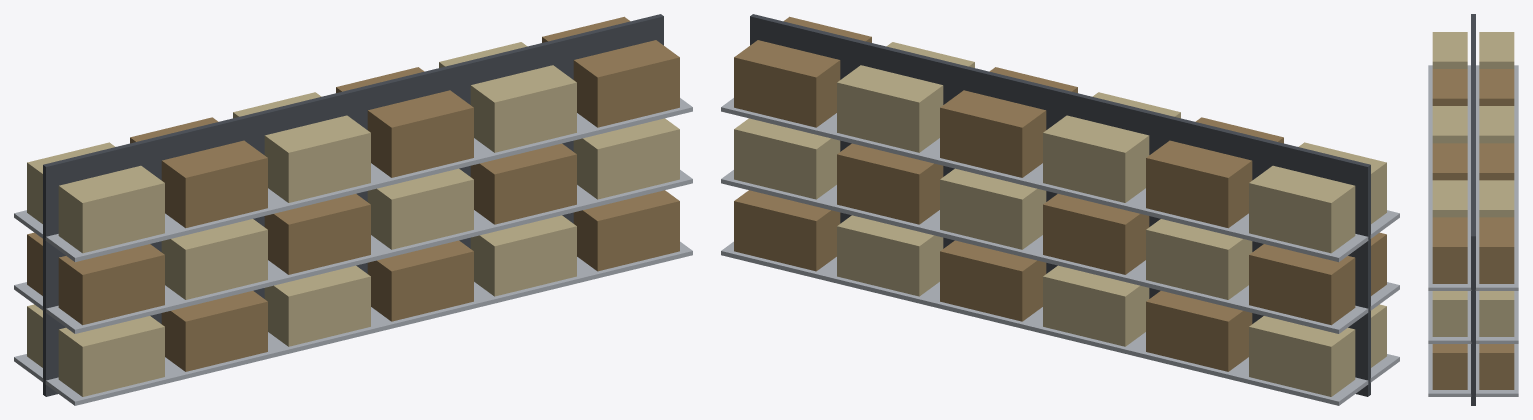
The model's file is feed aisle.glb.
3 views of the same model, side by side, from view 1: azimuth 30°, elevation 25°; view 2: azimuth 150°, elevation 25°; view 3: azimuth 270°, elevation 25° (orthographic). The views are drawn at different scales.
Visible parts, largest first — view 1: feed aisle; view 2: feed aisle; view 3: feed aisle.
Part boxes in pixels (box(x1,y1,x2,y2)): feed aisle: box(14, 14, 692, 405); feed aisle: box(721, 14, 1399, 405); feed aisle: box(1428, 14, 1518, 405).
Size of the model in its own units: 4.5 by 1.6 by 0.77.
